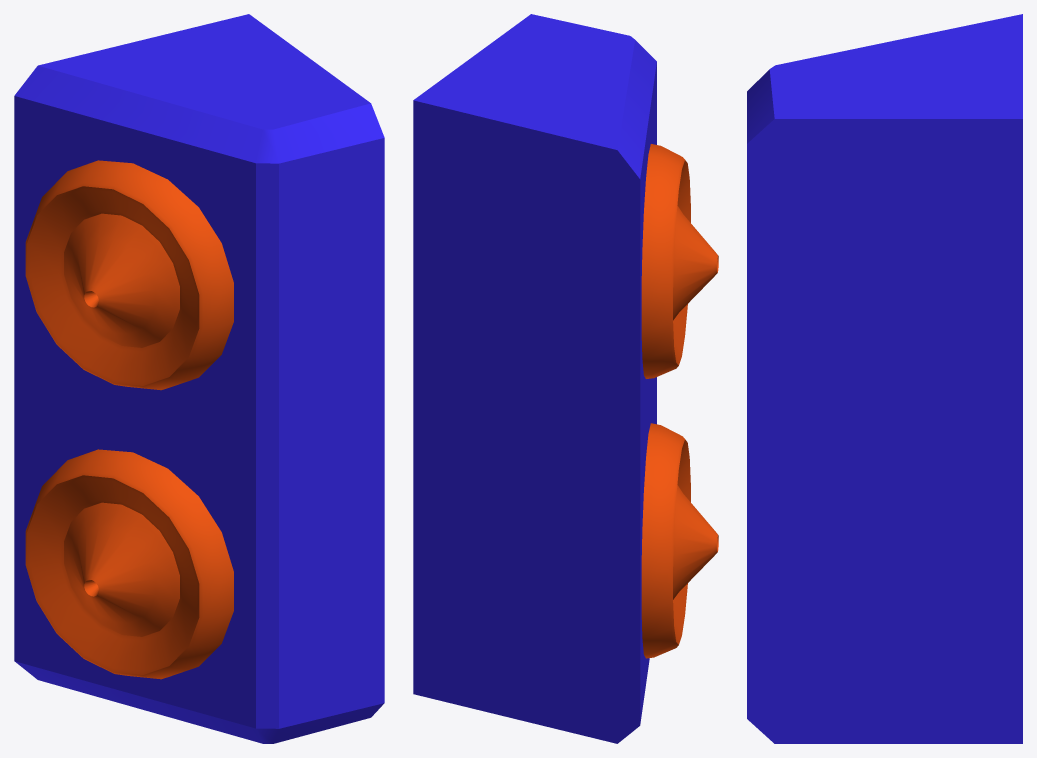
File: SM_Fan_50x20.FBX
3 views of the same model, side by side, from view 1: azimuth 30°, elevation 25°; view 2: azimuth 150°, elevation 25°; view 3: azimuth 270°, elevation 25° (orthographic). The views are drawn at different scales.
Parts seen in each view (by area): view 1: Fan_50x020, Cylinder006, Cylinder005; view 2: Fan_50x020, Cylinder005, Cylinder006; view 3: Fan_50x020.
Part boxes in pixels (x1,y1,x2,y2): Fan_50x020: (14,14,384,743); Cylinder006: (25,449,233,679); Cylinder005: (25,160,233,390); Fan_50x020: (413,14,656,743); Cylinder005: (641,144,718,378); Cylinder006: (641,423,718,658); Fan_50x020: (747,14,1022,743).
Bounding box in the file's own units: 20.92 × 20 × 50.
